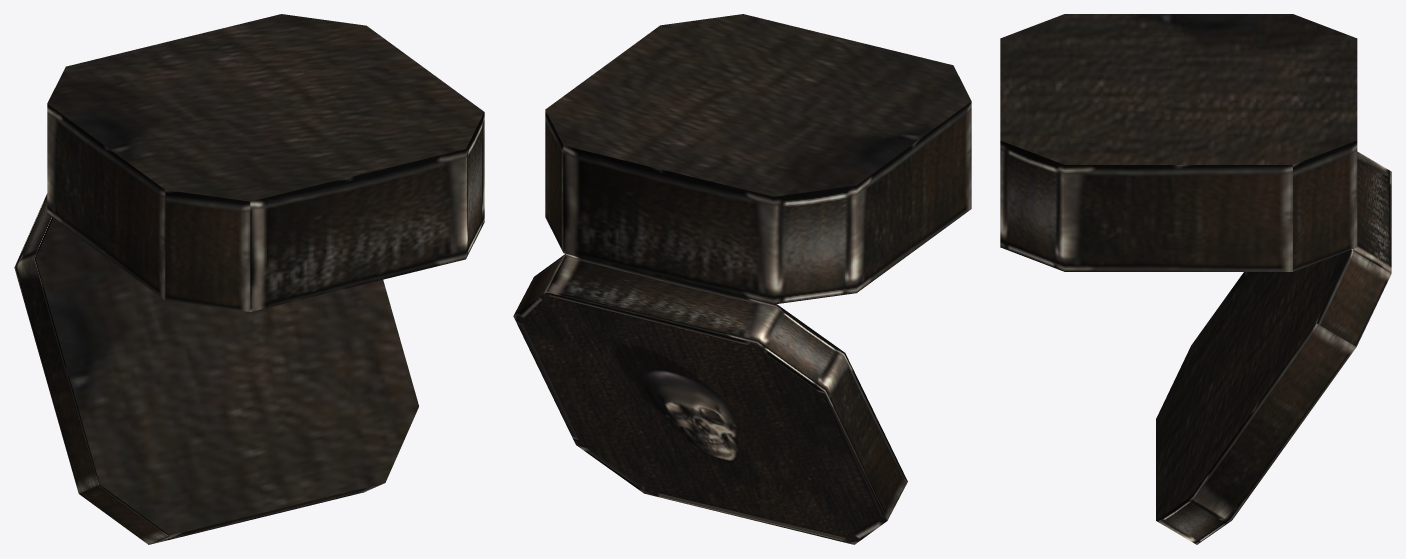
File: pir_m_hnd_tol_compass.fbx
3 renders of one model, left to right at view 1: azimuth 30°, elevation 25°; view 2: azimuth 150°, elevation 25°; view 3: azimuth 270°, elevation 25°, orthographic. The views are drawn at different scales.
Parts seen in each view (by area): view 1: compass_bot, compass_top; view 2: compass_bot, compass_top; view 3: compass_bot, compass_top.
Boxes of the visible parts, x1,y1,x2,y2 form: compass_bot: (47,14,484,311); compass_top: (14,193,418,544); compass_bot: (545,14,971,304); compass_top: (513,254,907,544); compass_bot: (1000,14,1357,271); compass_top: (1156,151,1391,544).
Bounding box in the file's own units: 19.21 × 24 × 21.05.
Materials: 1 (1 with a texture image).
